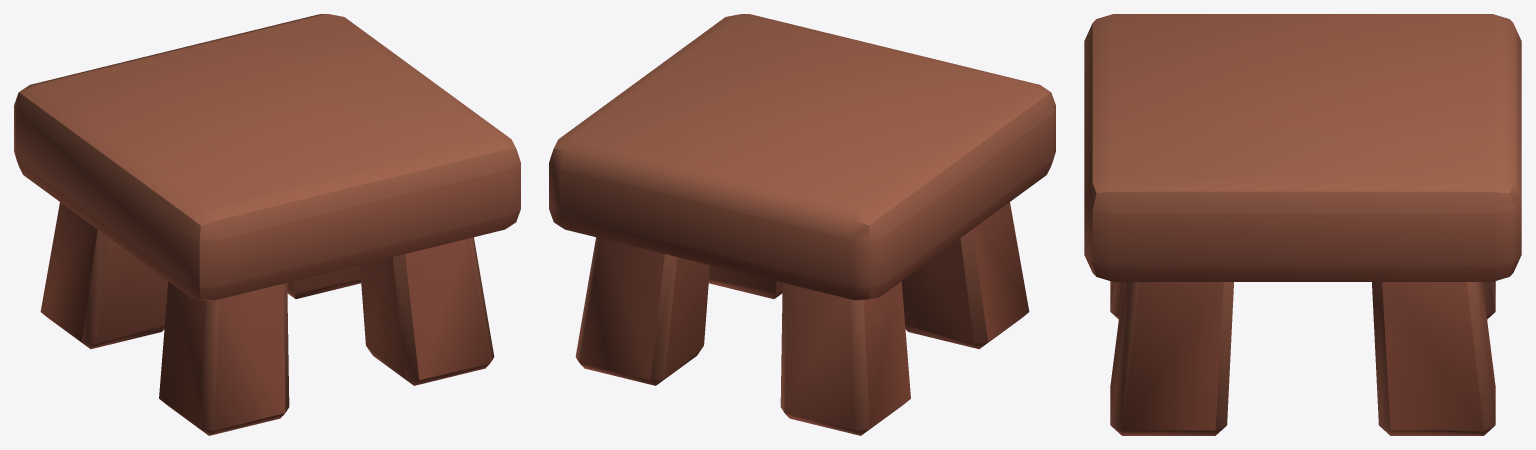
Rendered from chair-stool-wood.glb.
3 views of the same model, side by side, from view 1: azimuth 30°, elevation 25°; view 2: azimuth 150°, elevation 25°; view 3: azimuth 270°, elevation 25° (orthographic). The views are drawn at different scales.
Parts seen in each view (by area): view 1: chair_stool_wood; view 2: chair_stool_wood; view 3: chair_stool_wood.
Boxes of the visible parts, x1,y1,x2,y2 form: chair_stool_wood: (14, 14, 520, 435); chair_stool_wood: (549, 14, 1055, 435); chair_stool_wood: (1084, 14, 1521, 435).
Size of the model in its own units: 0.75 by 0.5 by 0.75.
Materials: 1 (1 with a texture image).
